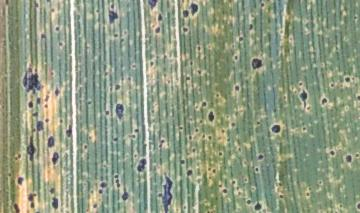tarspot: (157, 175, 174, 213), (21, 67, 44, 94), (27, 136, 37, 164), (297, 88, 310, 109), (250, 57, 265, 70), (107, 10, 119, 25), (136, 157, 147, 173), (115, 104, 124, 122), (27, 193, 36, 209), (188, 3, 198, 17), (113, 174, 121, 189), (51, 196, 59, 210), (121, 188, 129, 202), (148, 1, 158, 12), (51, 152, 59, 165), (344, 153, 353, 164), (207, 111, 215, 123), (65, 125, 72, 138), (36, 120, 44, 131), (48, 136, 55, 148), (253, 202, 262, 211), (270, 125, 280, 133), (12, 204, 20, 213), (54, 87, 61, 97), (320, 97, 327, 106), (355, 201, 360, 213), (31, 111, 39, 118), (17, 177, 24, 185), (100, 181, 108, 188), (234, 84, 241, 92), (159, 140, 165, 149), (154, 27, 161, 34), (257, 154, 264, 161), (27, 101, 33, 109), (111, 137, 119, 143), (182, 10, 188, 18), (127, 134, 136, 139), (49, 187, 55, 194), (114, 84, 121, 90), (104, 109, 110, 116), (92, 202, 98, 209), (182, 27, 189, 33), (217, 151, 223, 158), (233, 54, 239, 61), (329, 150, 336, 156), (344, 76, 351, 82), (36, 97, 41, 105), (157, 14, 162, 22), (224, 115, 232, 120), (86, 99, 92, 105), (134, 128, 140, 134), (186, 169, 192, 175), (149, 61, 155, 67), (201, 101, 207, 107), (230, 180, 236, 186), (237, 147, 243, 153), (83, 144, 88, 151), (196, 45, 201, 52), (208, 135, 213, 142), (44, 96, 50, 101), (98, 190, 104, 195), (179, 159, 185, 164), (185, 76, 191, 81), (201, 134, 206, 140), (222, 188, 228, 193), (230, 122, 236, 127), (248, 24, 253, 30), (307, 106, 313, 111), (298, 82, 304, 87), (302, 126, 307, 132), (305, 192, 311, 197), (338, 203, 343, 209), (329, 82, 335, 87), (272, 108, 278, 113), (251, 186, 256, 192), (356, 95, 360, 102), (50, 8, 55, 13), (34, 3, 39, 8), (44, 104, 49, 109), (44, 118, 49, 123), (16, 153, 21, 158), (127, 76, 132, 81), (197, 70, 202, 75), (150, 109, 155, 114), (254, 168, 259, 173), (277, 182, 282, 187), (226, 138, 231, 143), (221, 129, 225, 135), (212, 168, 216, 174), (255, 122, 261, 126), (353, 15, 357, 21), (207, 210, 214, 213), (55, 27, 60, 31), (41, 34, 45, 39), (50, 71, 54, 76), (123, 30, 127, 35), (59, 119, 64, 123), (7, 172, 11, 177), (90, 190, 94, 195), (189, 61, 194, 65), (178, 126, 183, 130), (188, 135, 192, 140), (218, 183, 222, 188), (215, 93, 220, 97), (239, 37, 243, 42), (261, 3, 265, 8), (245, 200, 250, 204), (279, 194, 284, 198), (182, 205, 187, 209), (58, 42, 62, 46), (114, 34, 118, 38), (131, 64, 135, 68), (195, 106, 199, 110), (199, 120, 203, 124), (192, 148, 196, 152), (243, 178, 247, 182), (236, 187, 240, 191), (110, 5, 115, 8), (195, 128, 198, 133), (237, 192, 240, 197), (95, 9, 99, 12), (120, 38, 123, 42), (208, 167, 211, 171), (208, 176, 211, 180), (308, 187, 311, 191), (318, 181, 322, 184)
